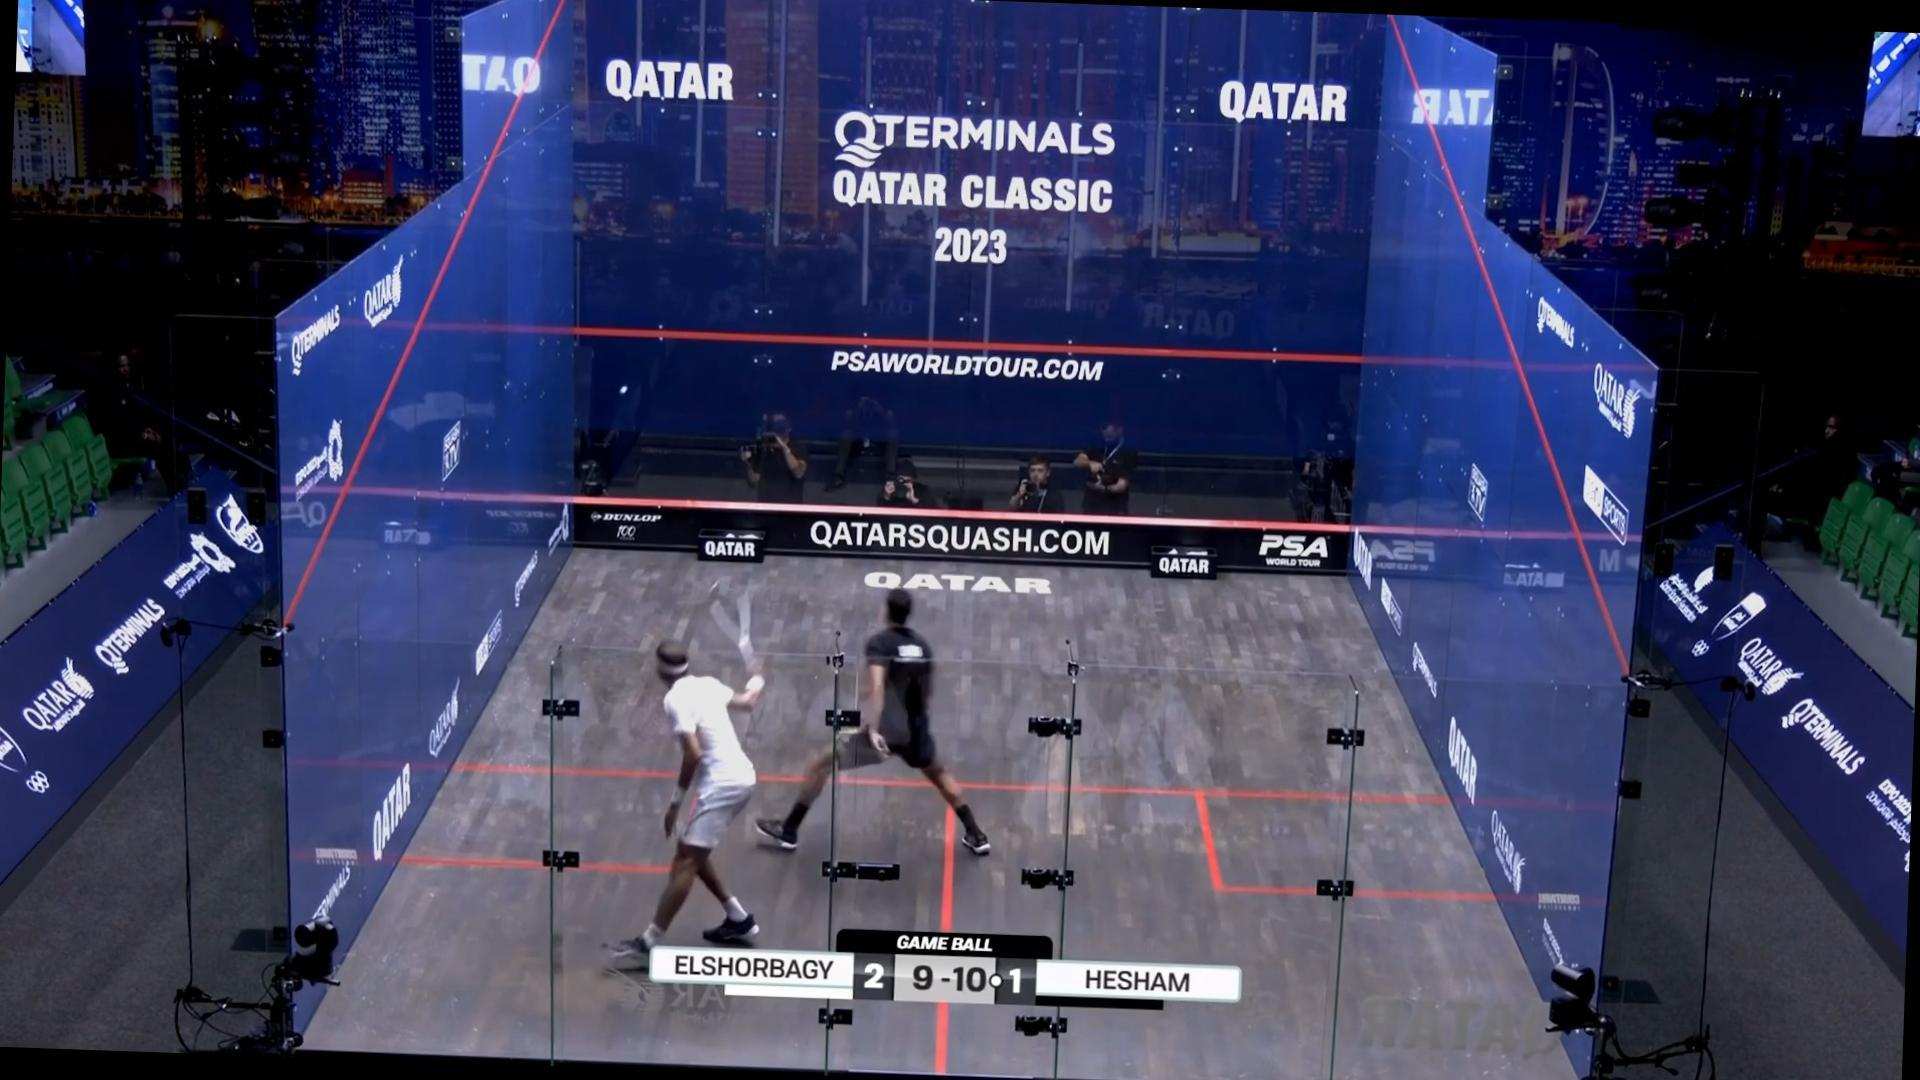Squash-Ball: (613, 372, 637, 409)
